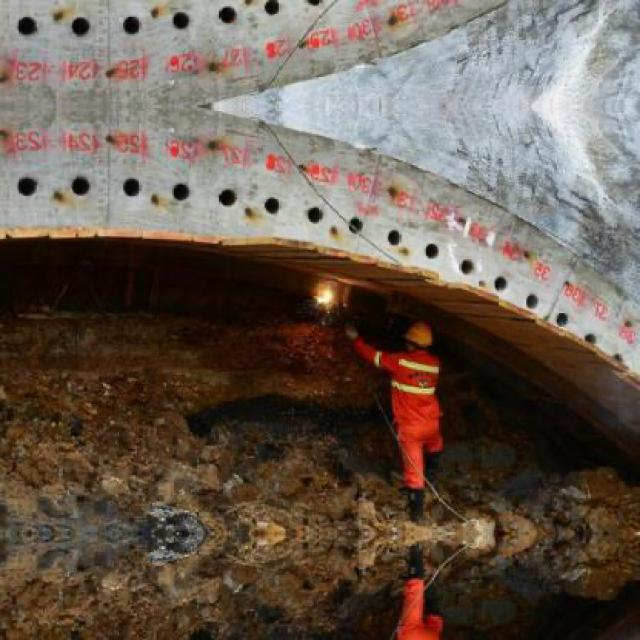helmet: (403, 321, 435, 352)
